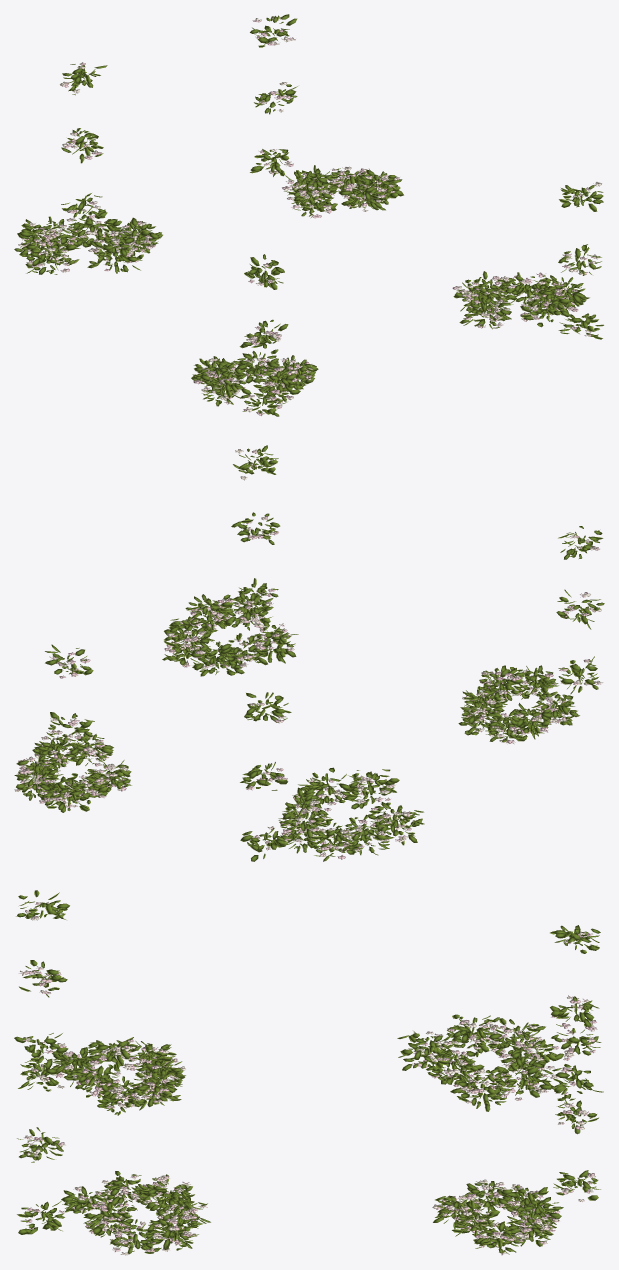
Rendered from R2_Blossoms.fbx.
The picture shows the model from 3 angles, top to bottom: view 1: azimuth 30°, elevation 25°; view 2: azimuth 150°, elevation 25°; view 3: azimuth 270°, elevation 25°; orthographic projection. The views are drawn at different scales.
Visible parts, largest first — view 1: R2_Blossoms; view 2: R2_Blossoms; view 3: R2_Blossoms.
Part boxes in pixels (x1=…): R2_Blossoms: x1=14, y1=14, x2=603, y2=416; R2_Blossoms: x1=14, y1=445, x2=604, y2=861; R2_Blossoms: x1=14, y1=890, x2=603, y2=1255.
Size of the model in its own units: 32.07 by 12.87 by 37.61.
